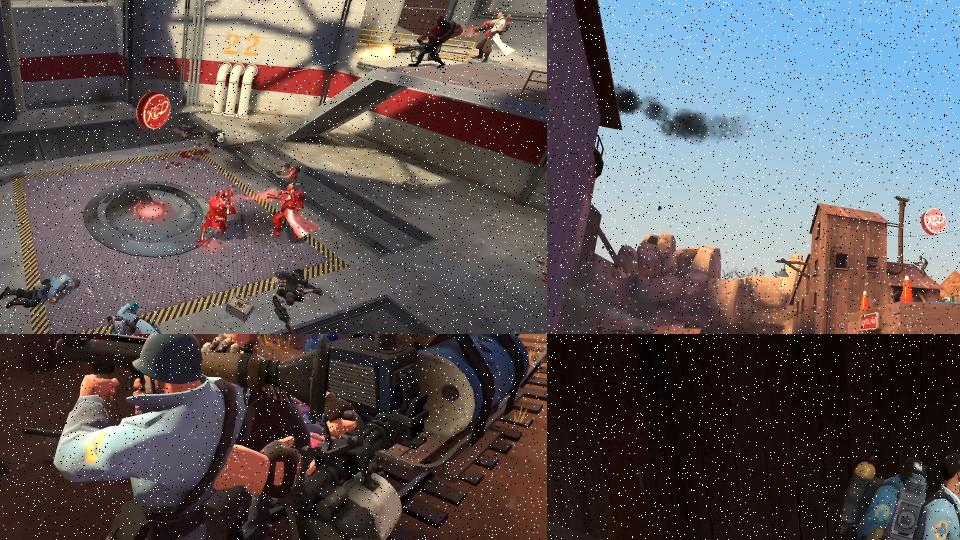Enemy: (39, 334, 332, 540), (195, 334, 408, 540), (841, 451, 942, 540), (393, 12, 465, 72), (264, 182, 322, 248), (0, 270, 84, 312), (468, 9, 518, 70), (197, 184, 240, 245), (108, 300, 185, 334), (266, 263, 328, 305), (272, 160, 308, 199), (167, 117, 207, 143), (913, 254, 931, 278)
